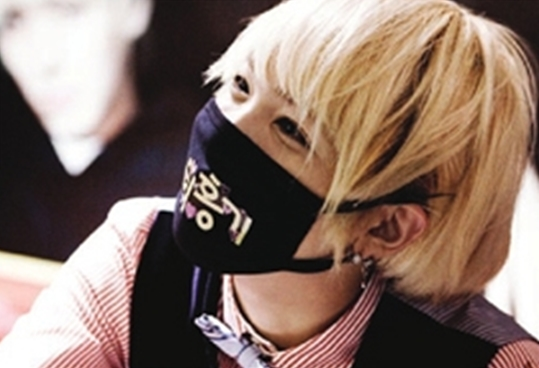face_mask: (175, 27, 337, 279)
